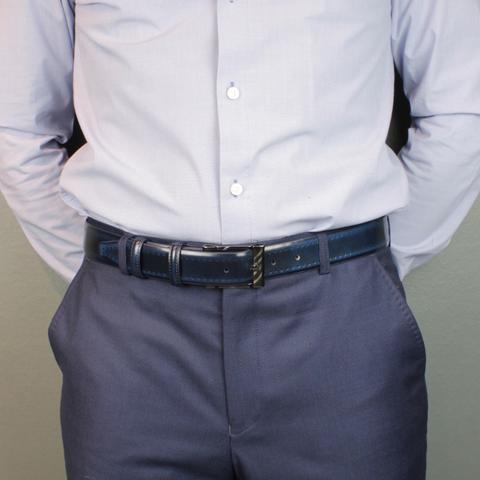F_belt: (71, 218, 391, 280)
F_dress pants: (57, 229, 437, 480)
F_shirt: (8, 1, 480, 286)
